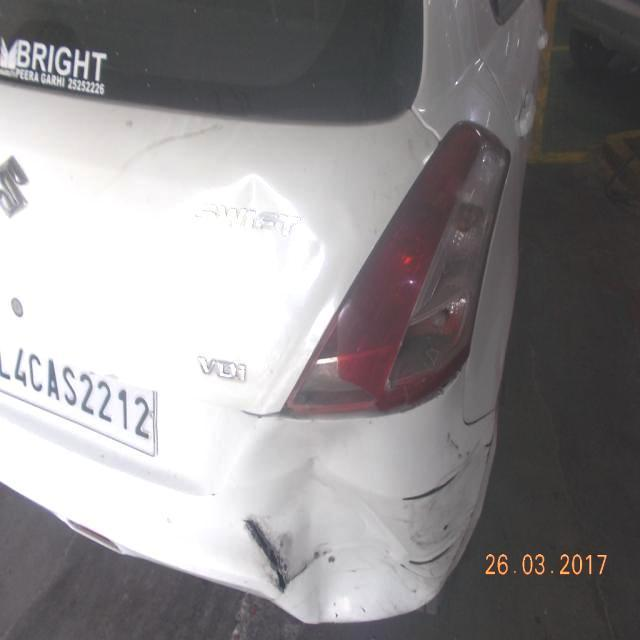minor: (147, 157, 344, 382)
moderate: (230, 422, 431, 623), (428, 529, 472, 584), (402, 474, 461, 506)
